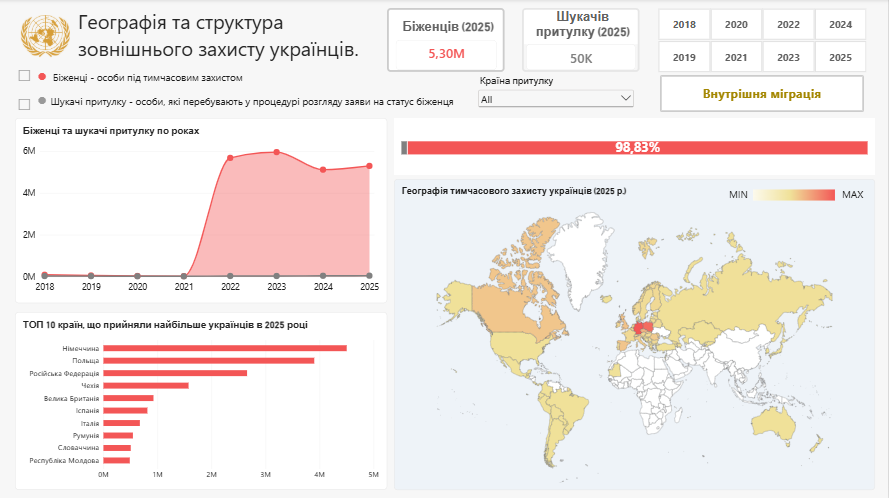

This screenshot's page, from the dashboard's own definition file:
{"tool":"powerbi","page":{"name":"Зовнішня міграція","canvas":[1920,1080],"ordinal":1},"visuals":[{"type":"slicer","fields":{"Values":["BI_ukrainian_abroad_final.Категорія шукачів притулку"]},"box":[32.4,134.1,40.3,140.2],"z":0,"group":"g1"},{"type":"actionButton","box":[1425.6,164.2,440.6,79.9],"z":0},{"type":"image","box":[28.1,34.6,140.4,90.7],"z":1000},{"type":"textbox","box":[79.1,112.1,924.5,144.7],"z":1000,"group":"g1"},{"type":"textbox","box":[168.5,19.4,645.8,162],"z":2000},{"type":"slicer","fields":{"Values":["BI_ukrainian_abroad_final.Країна притулку"]},"box":[1028.2,164.2,345.6,79.9],"z":3000},{"type":"hundredPercentStackedBarChart","title":"ВПО та Інші","fields":{"Series":["BI_ukrainian_abroad_final.Категорія шукачів притулку"],"Y":["Sum(BI_ukrainian_abroad_final.Value)"]},"box":[851,257,1039,123],"z":4000},{"type":"areaChart","title":"Біженці та шукачі притулку по роках","fields":{"Category":["BI_ukrainian_abroad_final.Year"],"Series":["BI_ukrainian_abroad_final.Категорія шукачів притулку"],"Y":["Sum(BI_ukrainian_abroad_final.Value)"]},"box":[32.4,257,803.5,399.6],"z":5000},{"type":"cardVisual","fields":{"Data":["BI_ukrainian_abroad_final.Кількість очікують на отримання статусу"]},"box":[1127.5,19.4,254,138],"z":6000},{"type":"cardVisual","fields":{"Data":["BI_ukrainian_abroad_final.Кількість отримали статус біженця"]},"box":[836.5,20.2,254,138],"z":7000},{"type":"group","id":"g1","title":"Group 2","box":[32.4,112.1,971.1,162.2],"z":7009,"group":"g2"},{"type":"shapeMap","fields":{"Category":["BI_ukrainian_abroad_final.Country_of_Asylum_UN_Code"],"Value":["BI_ukrainian_abroad_final.Кількість отримали статус біженця"]},"box":[851,388.8,1039,671.8],"z":8000},{"type":"group","id":"g2","title":"Group 1","box":[32.4,112.1,971.1,162.2],"z":9000},{"type":"clusteredBarChart","fields":{"Category":["BI_ukrainian_abroad_final.Країна притулку"],"Series":["BI_ukrainian_abroad_final.Категорія шукачів притулку"],"Y":["Sum(BI_ukrainian_abroad_final.Value)"]},"box":[32.4,676.1,803.5,384.5],"z":10000},{"type":"image","box":[1626.5,410.4,177.1,25.9],"z":11000},{"type":"textbox","box":[1574,405,51.8,49.7],"z":12000},{"type":"textbox","box":[1818.7,405,71.3,49.7],"z":13000},{"type":"slicer","fields":{"Values":["Календар.Year"]},"box":[1401.8,19.4,488.2,140.4],"z":14000}]}

Visuals, with their boxes in screenshot pixels (x1, y1, x2, y2), scaled from the page's 1920x1080 canvas onto the 889x498 screenshot:
slicer - BI_ukrainian_abroad_final.Категорія шукачів притулку: detection(15, 62, 34, 126)
actionButton: detection(660, 76, 864, 113)
image: detection(13, 16, 78, 58)
textbox: detection(37, 52, 465, 118)
textbox: detection(78, 9, 377, 84)
slicer - BI_ukrainian_abroad_final.Країна притулку: detection(476, 76, 636, 113)
"ВПО та Інші" hundredPercentStackedBarChart: detection(394, 119, 875, 175)
"Біженці та шукачі притулку по роках" areaChart: detection(15, 119, 387, 303)
cardVisual - BI_ukrainian_abroad_final.Кількість очікують на отримання статусу: detection(522, 9, 640, 73)
cardVisual - BI_ukrainian_abroad_final.Кількість отримали статус біженця: detection(387, 9, 505, 73)
"Group 2" group: detection(15, 52, 465, 126)
shapeMap - BI_ukrainian_abroad_final.Country_of_Asylum_UN_Code x BI_ukrainian_abroad_final.Кількість отримали статус біженця: detection(394, 179, 875, 489)
"Group 1" group: detection(15, 52, 465, 126)
clusteredBarChart - BI_ukrainian_abroad_final.Країна притулку x BI_ukrainian_abroad_final.Категорія шукачів притулку: detection(15, 312, 387, 489)
image: detection(753, 189, 835, 201)
textbox: detection(729, 187, 753, 210)
textbox: detection(842, 187, 875, 210)
slicer - Календар.Year: detection(649, 9, 875, 74)
